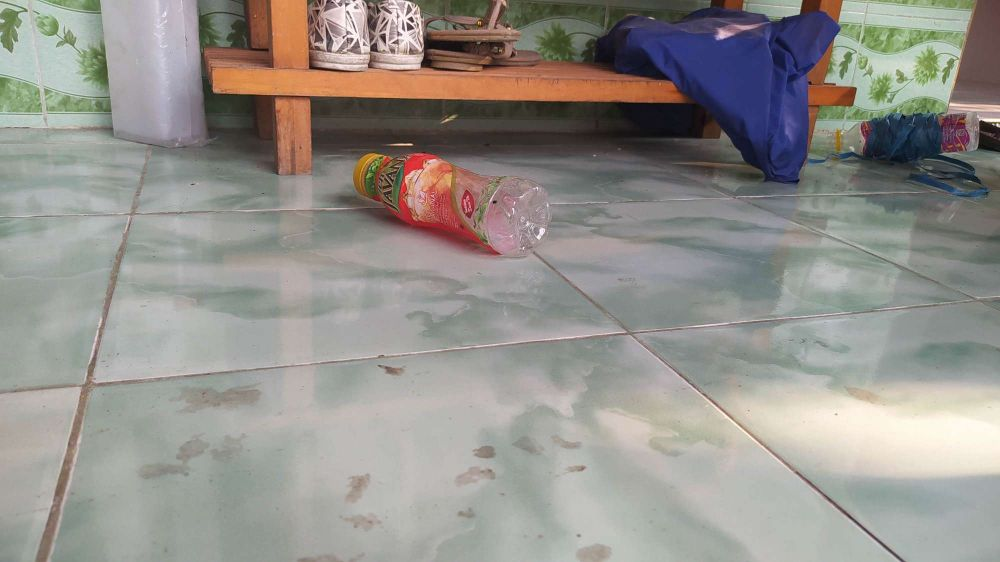botol: (339, 146, 572, 259)
